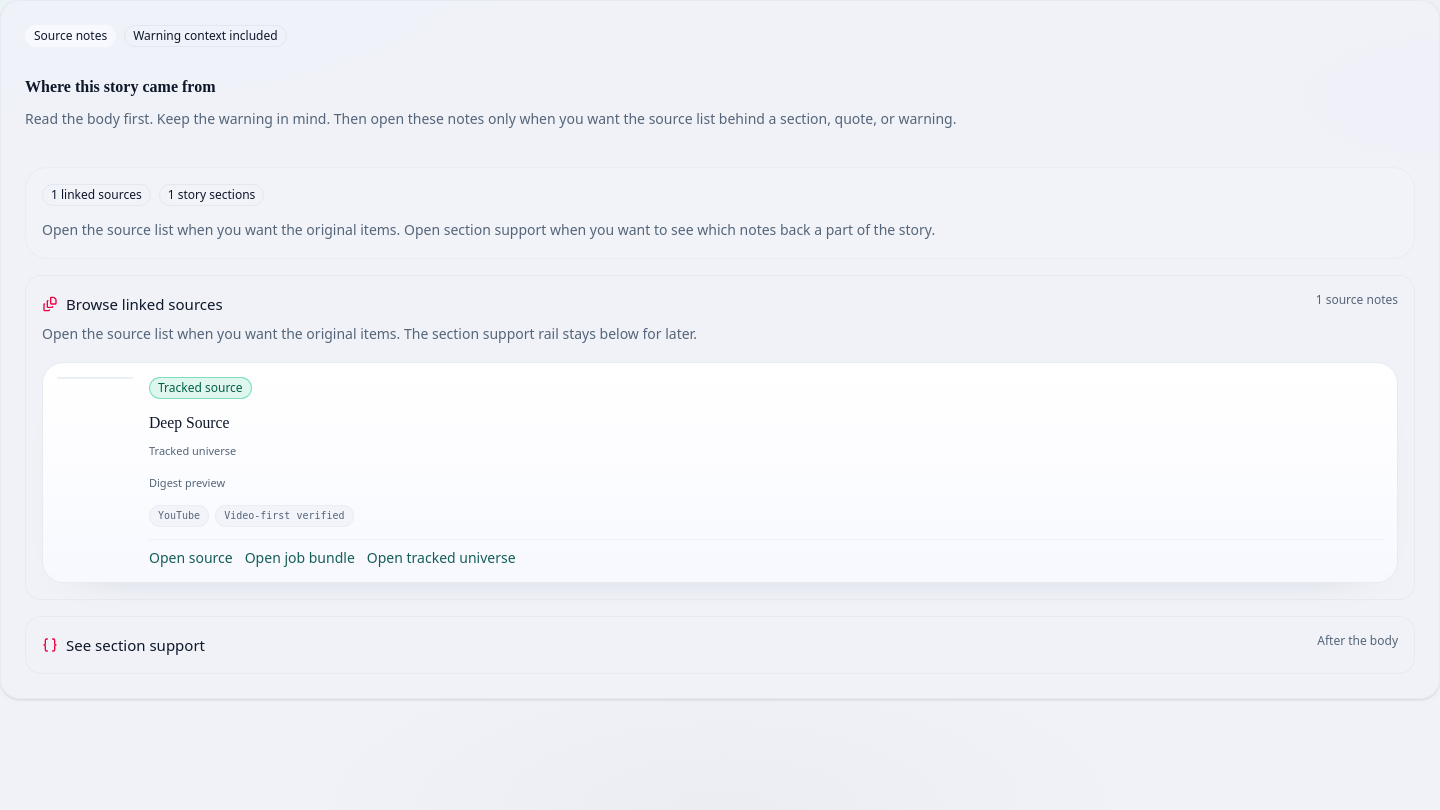
Test: source surfaces › renders the source contribution drawer with source, job bundle, and universe links
The width and height of the screenshot is (1440, 810).
Expected: the heading "Where this story came from" is shown, [25,78,216,95]
Expected: the text "Warning context included" is shown, [124,25,287,47]
Click the text "See section support".
click(124, 645)  # box [42,633,205,657]
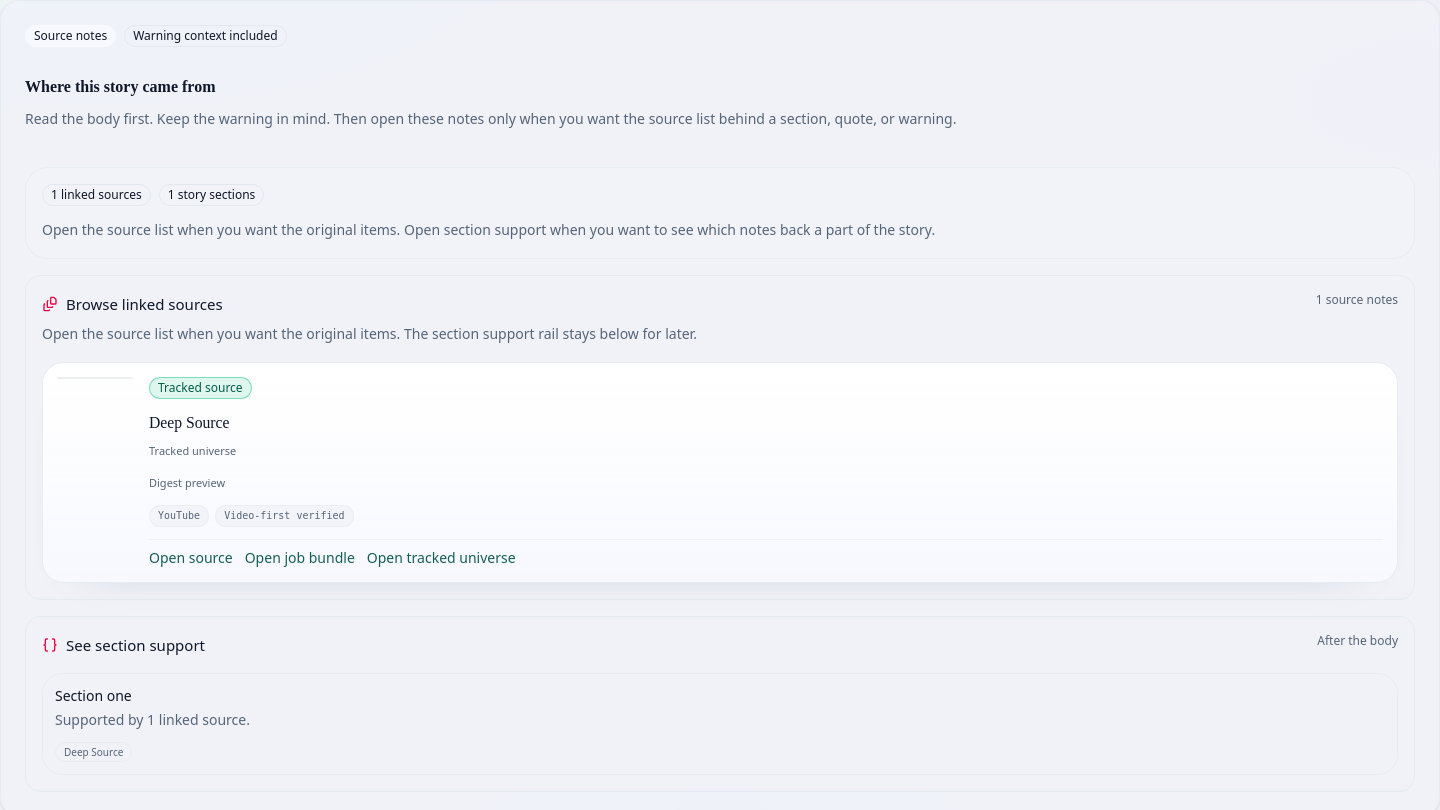
Expected: the text "Section one" is shown, [55,686,132,705]
Expected: the text "Supported by 1 linked source." is shown, [55,710,250,729]
Expected: the text "Deep Source" below "Supported by 1 linked source." is shown, [64,745,123,759]
